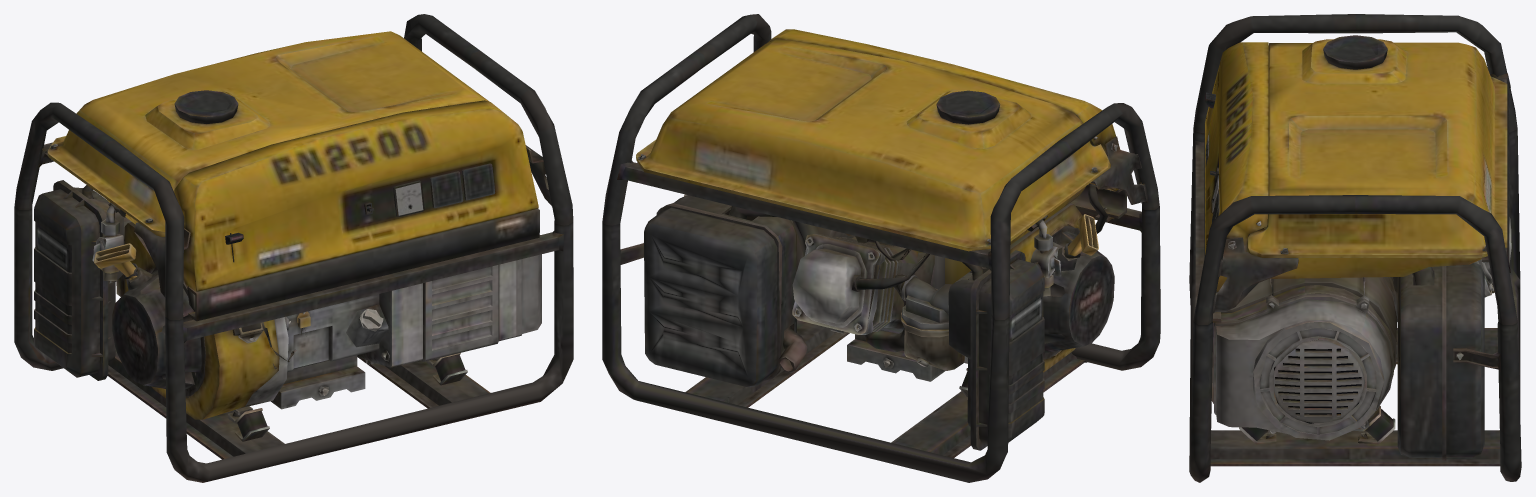
File: generator.glb
3 views of the same model, side by side, from view 1: azimuth 30°, elevation 25°; view 2: azimuth 150°, elevation 25°; view 3: azimuth 270°, elevation 25° (orthographic).
Bounding box in the file's own units: 0.8166 × 0.5752 × 0.564.
2 materials, 2 textured.
